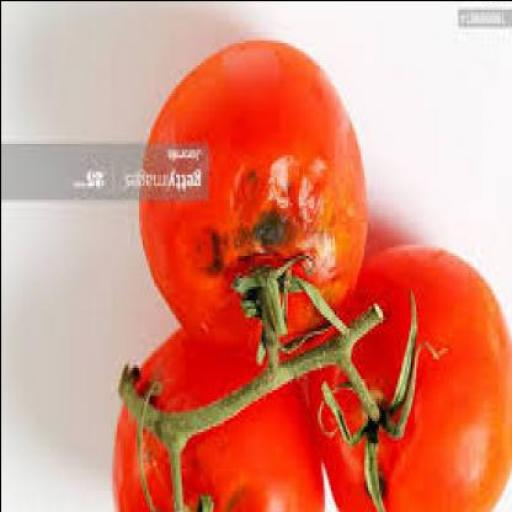biodegradable: (139, 39, 371, 356), (310, 248, 511, 510), (111, 327, 326, 511)
